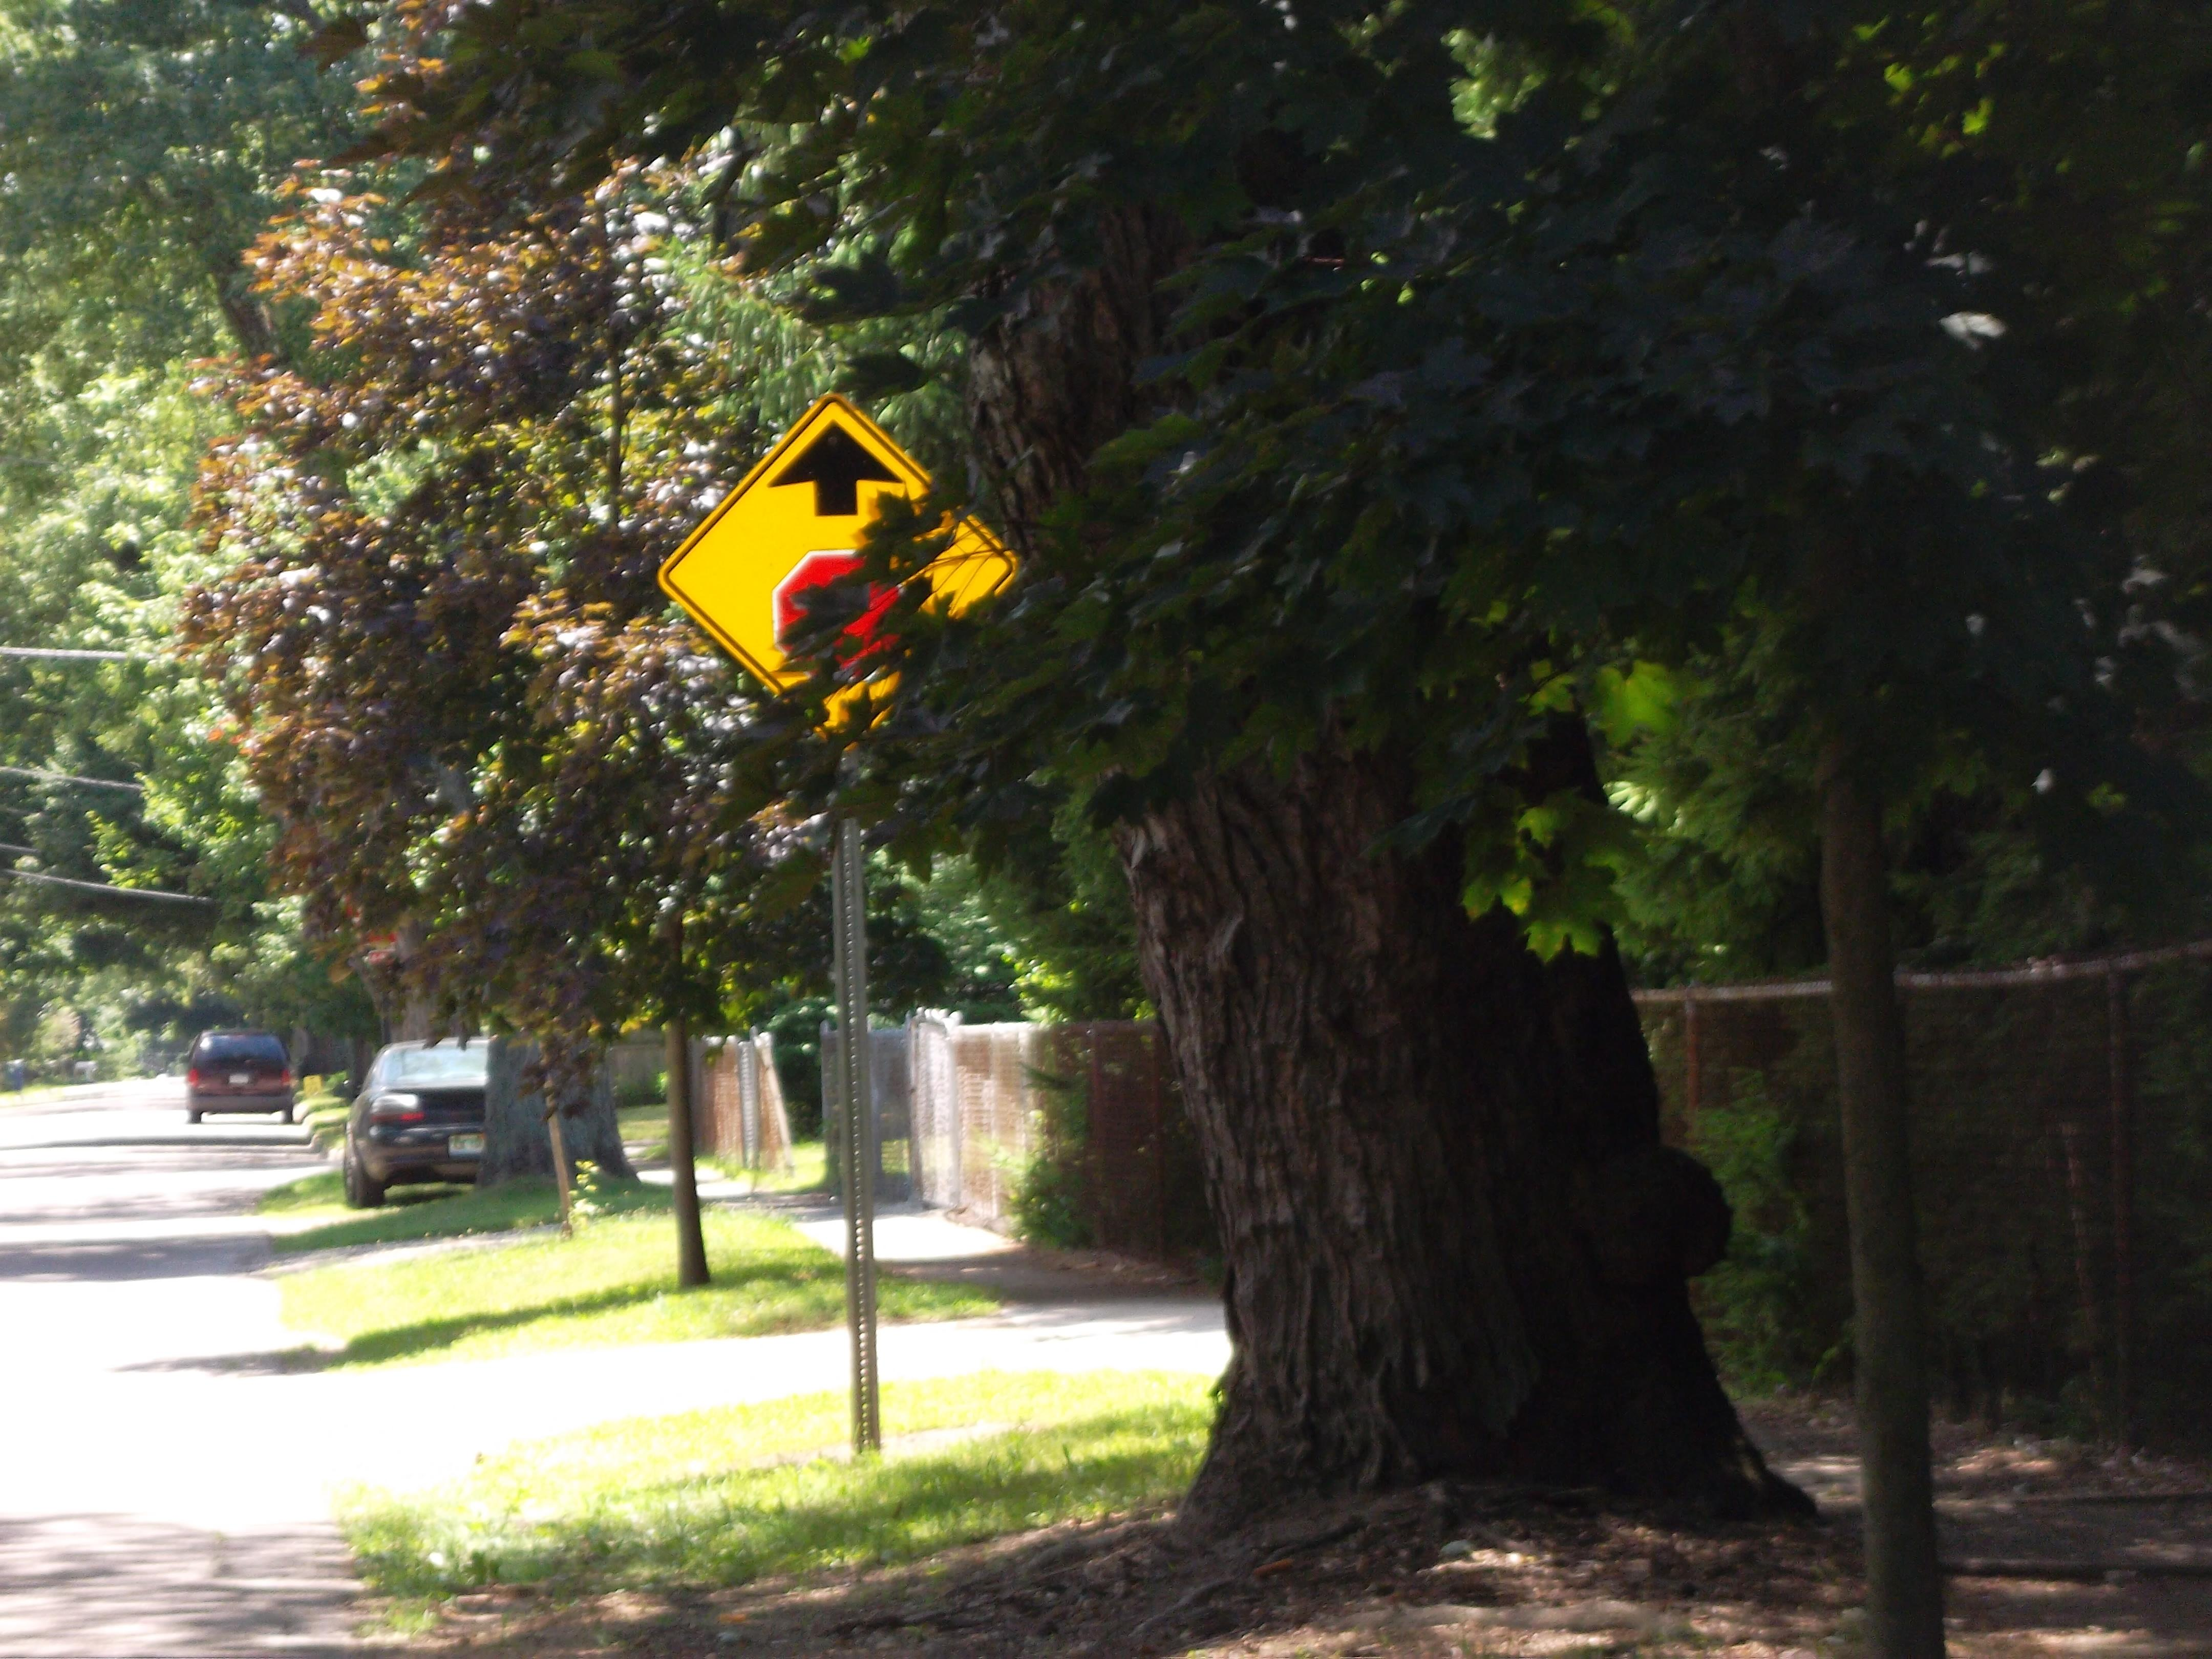stop: (770, 549, 918, 685)
warning: (658, 389, 1017, 744)
